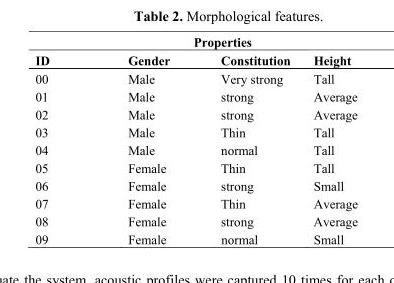table: (34, 34, 356, 245)
table column: (194, 34, 301, 245), (88, 34, 194, 245), (301, 34, 356, 245), (34, 34, 88, 245)
table column header: (34, 34, 356, 69)
table row: (34, 50, 356, 69), (34, 69, 356, 87), (34, 87, 356, 105), (34, 122, 356, 140), (34, 140, 356, 158), (34, 158, 356, 176), (34, 176, 356, 194), (34, 194, 356, 212), (34, 105, 356, 122), (34, 212, 356, 229), (34, 34, 356, 50), (34, 229, 356, 245)
table spanning cell: (34, 34, 356, 50)
